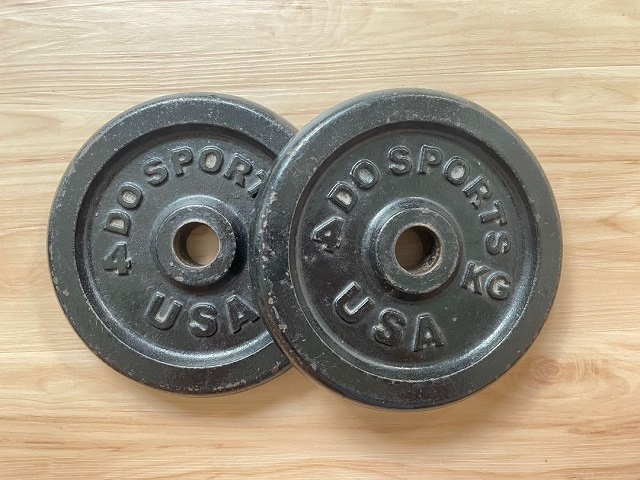weights: (247, 88, 566, 415), (46, 93, 303, 396)
